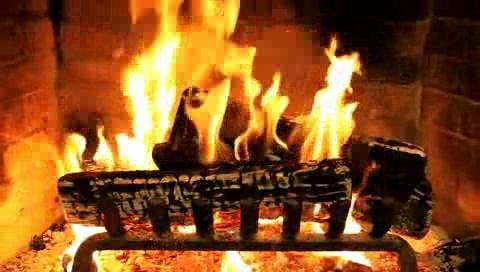fire: (95, 3, 371, 175)
